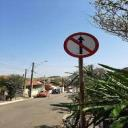NoSeguir: (61, 30, 101, 58)
